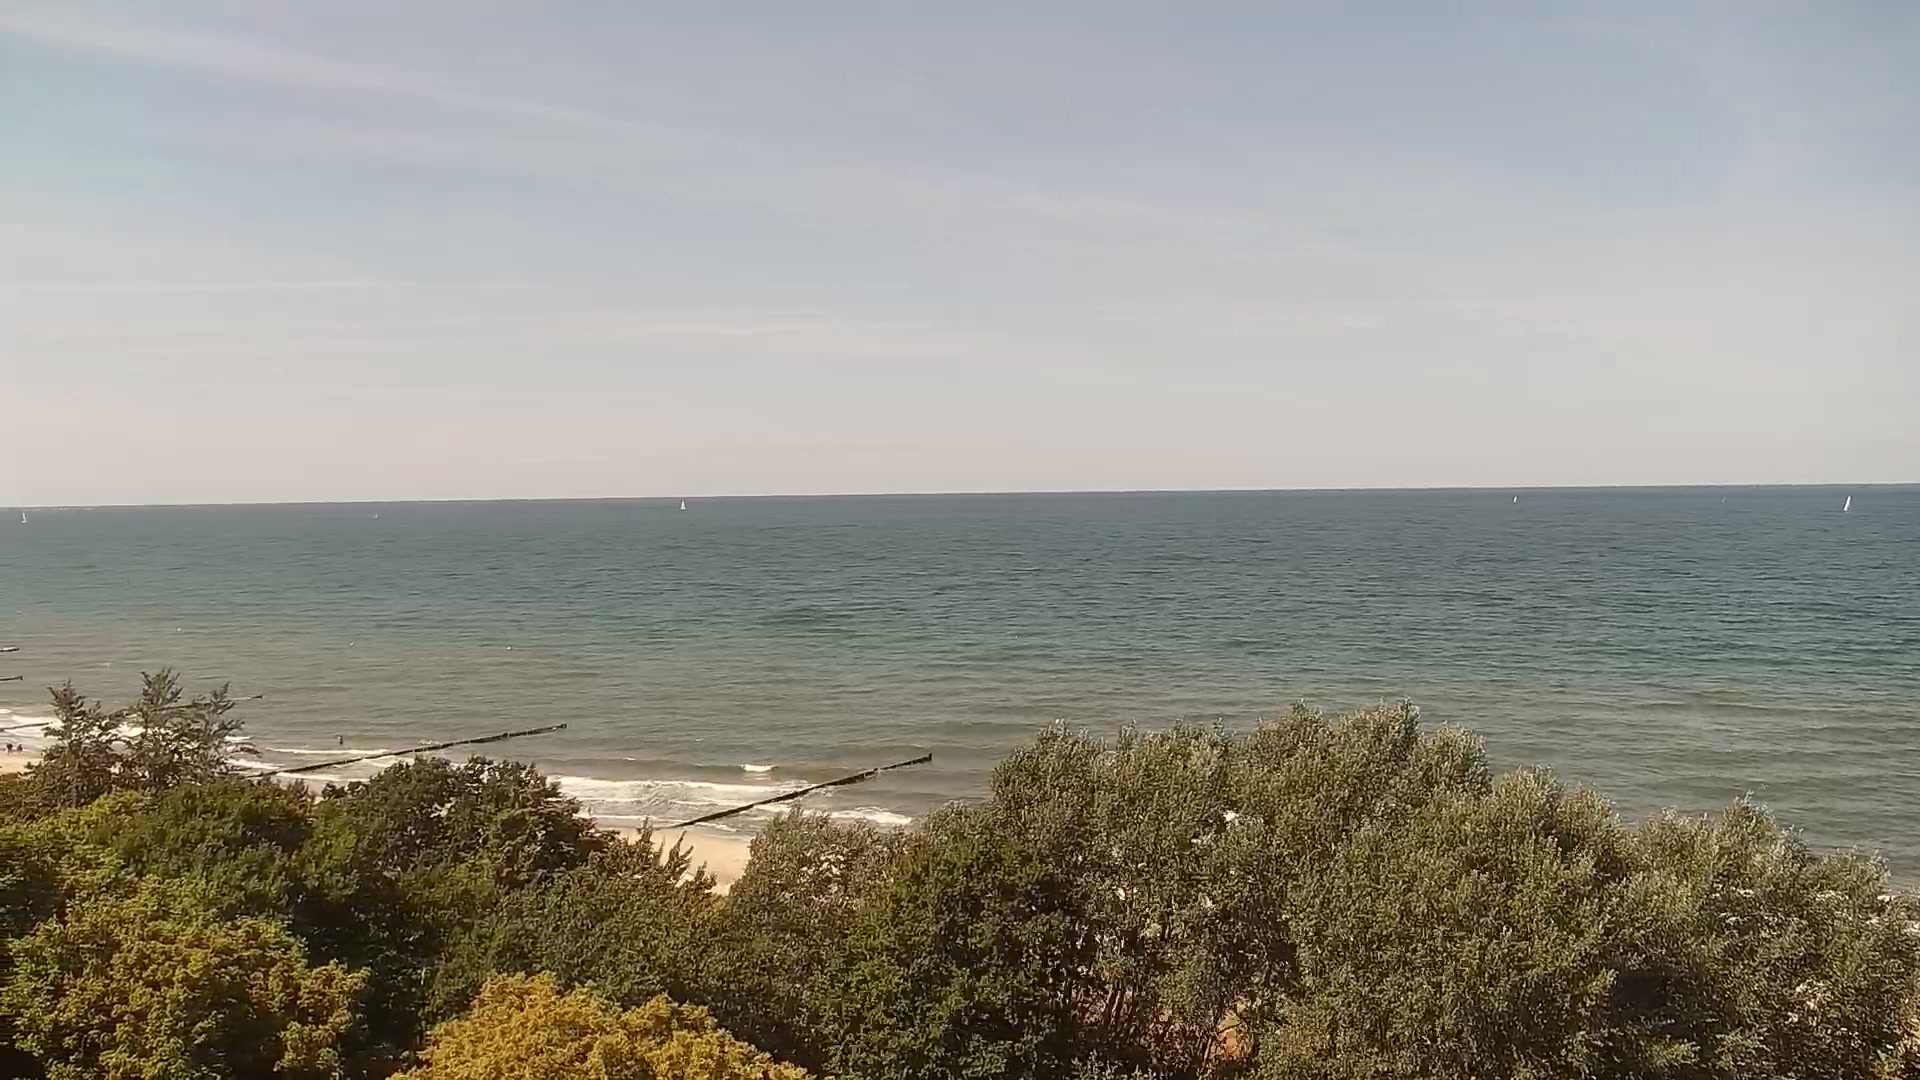human: (6, 741, 13, 755), (16, 743, 23, 755)
sea: (1842, 494, 1851, 511), (680, 498, 687, 510), (22, 511, 28, 523), (1512, 495, 1517, 503)
